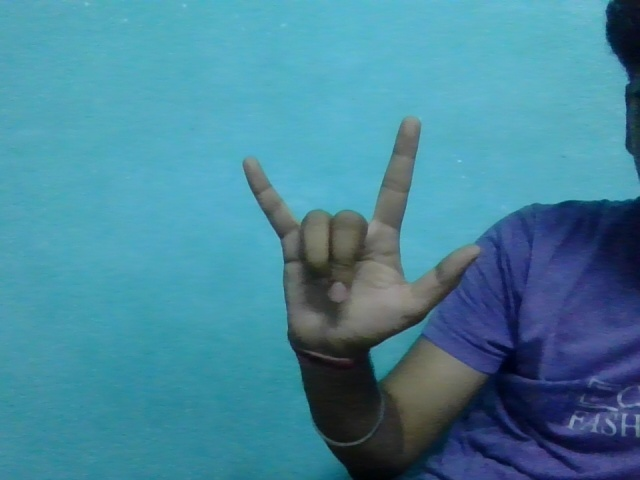iloveyou: (219, 113, 486, 377)
